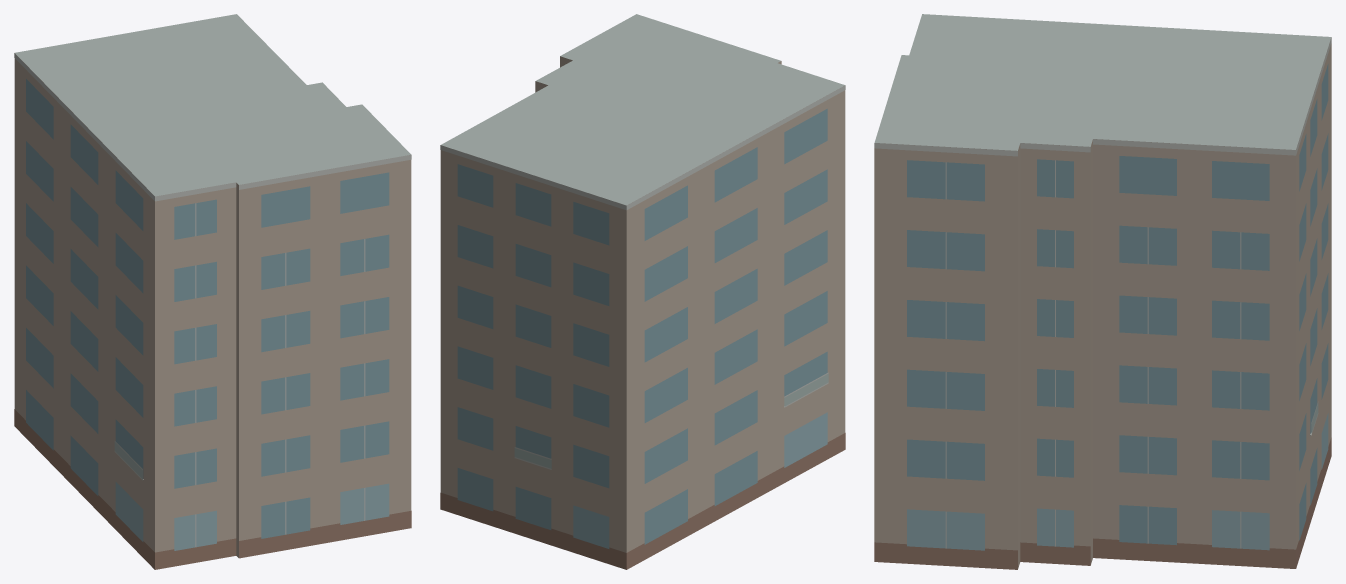
File: survey-upis-33044952.glb
The picture shows the model from 3 angles, left to right: view 1: azimuth 30°, elevation 25°; view 2: azimuth 150°, elevation 25°; view 3: azimuth 270°, elevation 25°; orthographic projection. The views are drawn at different scales.
Visible parts, largest first — view 1: survey-upis-33044952.tmp; view 2: survey-upis-33044952.tmp; view 3: survey-upis-33044952.tmp.
Boxes of the visible parts, box(x1,y1,x2,y2) form: survey-upis-33044952.tmp: box(14, 14, 411, 569); survey-upis-33044952.tmp: box(440, 14, 845, 569); survey-upis-33044952.tmp: box(874, 14, 1331, 569).
Bounding box in the file's own units: 12.83 × 18.3 × 18.1.
